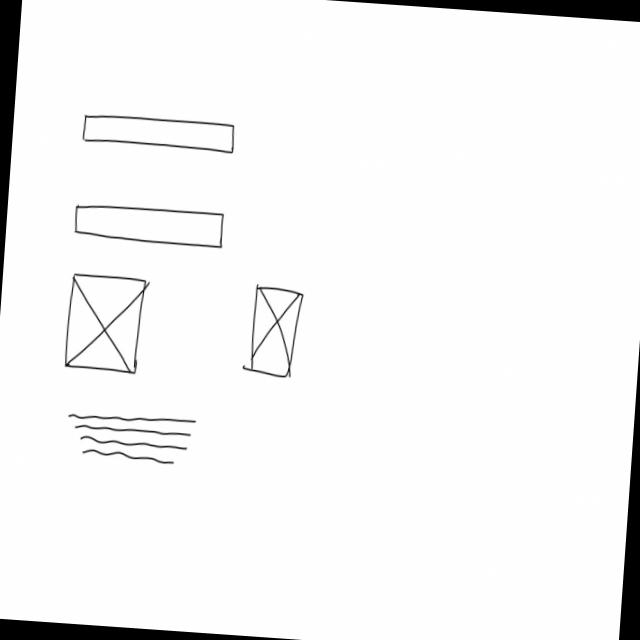container: (73, 200, 227, 252), (80, 110, 237, 156)
image: (62, 270, 146, 376), (246, 283, 304, 379)
textbox: (64, 409, 197, 467)
